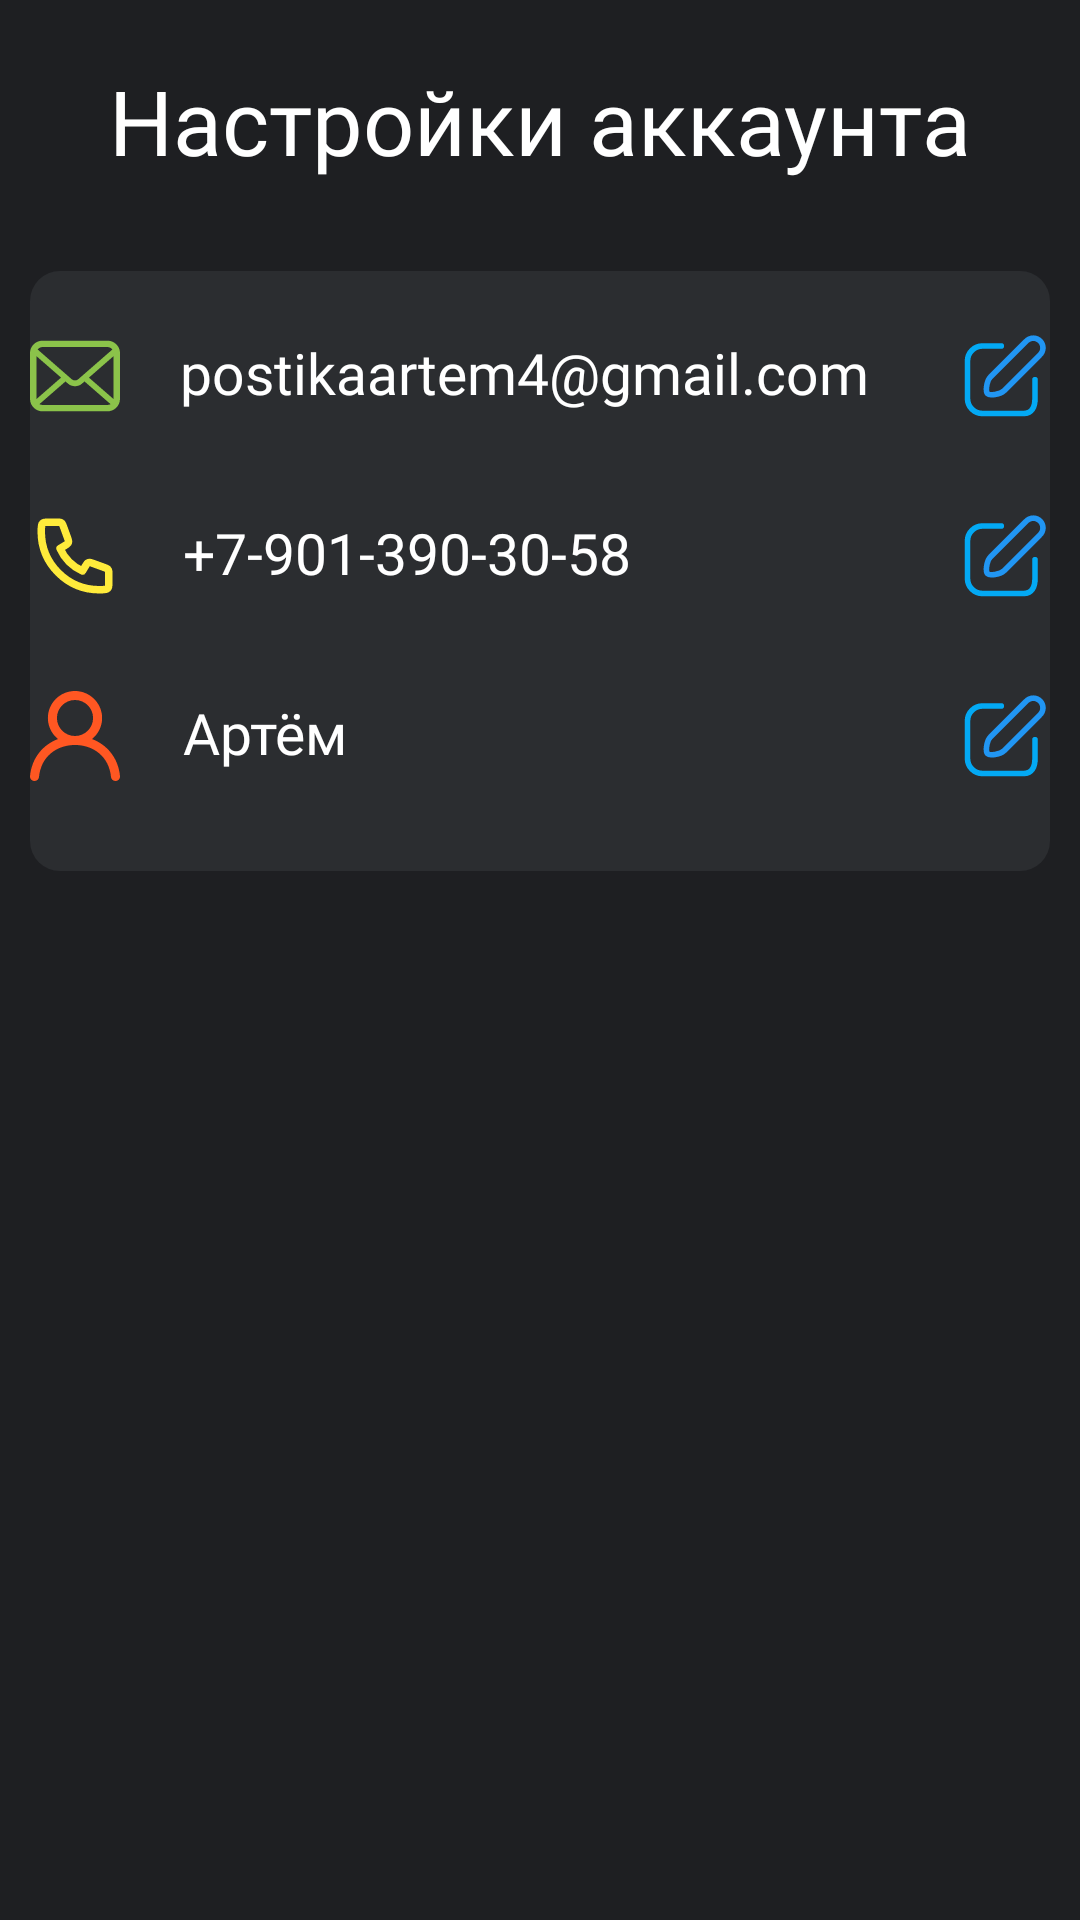

Icons on this 1080px x 1920px Android screen, each with its box as box(x1, y1, x2, y2):
edit: box(964, 335, 1046, 417), box(964, 515, 1046, 597), box(964, 695, 1046, 777)
email set: box(30, 340, 120, 412)
phone set: box(37, 518, 113, 594)
profile set: box(30, 691, 120, 781)
